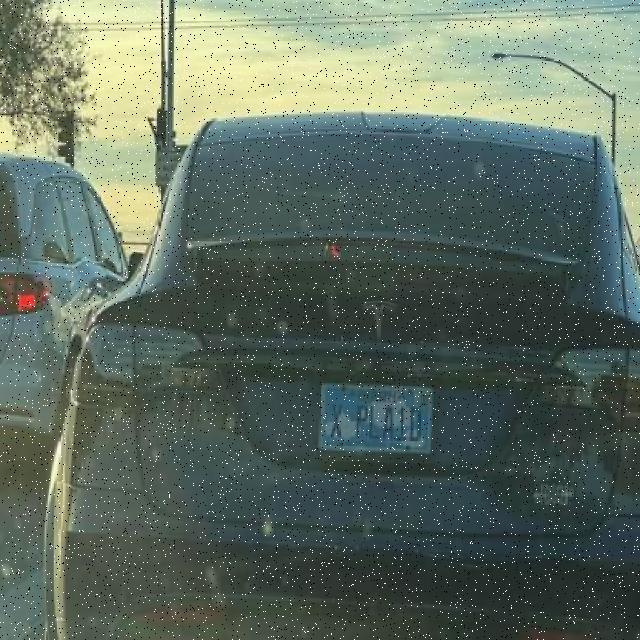licenseplate: (317, 383, 434, 456)
